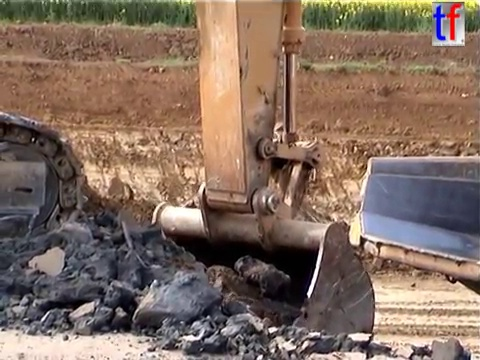excavator: (1, 1, 380, 360)
truck: (345, 151, 480, 299)
